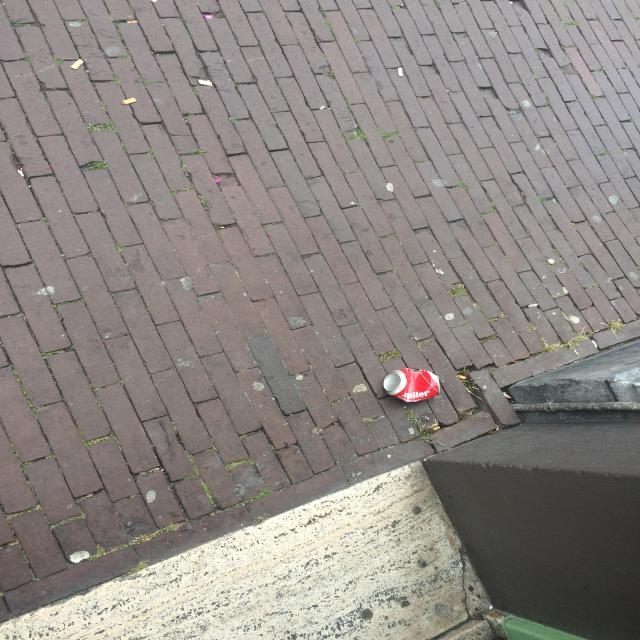litter: (380, 366, 441, 404)
